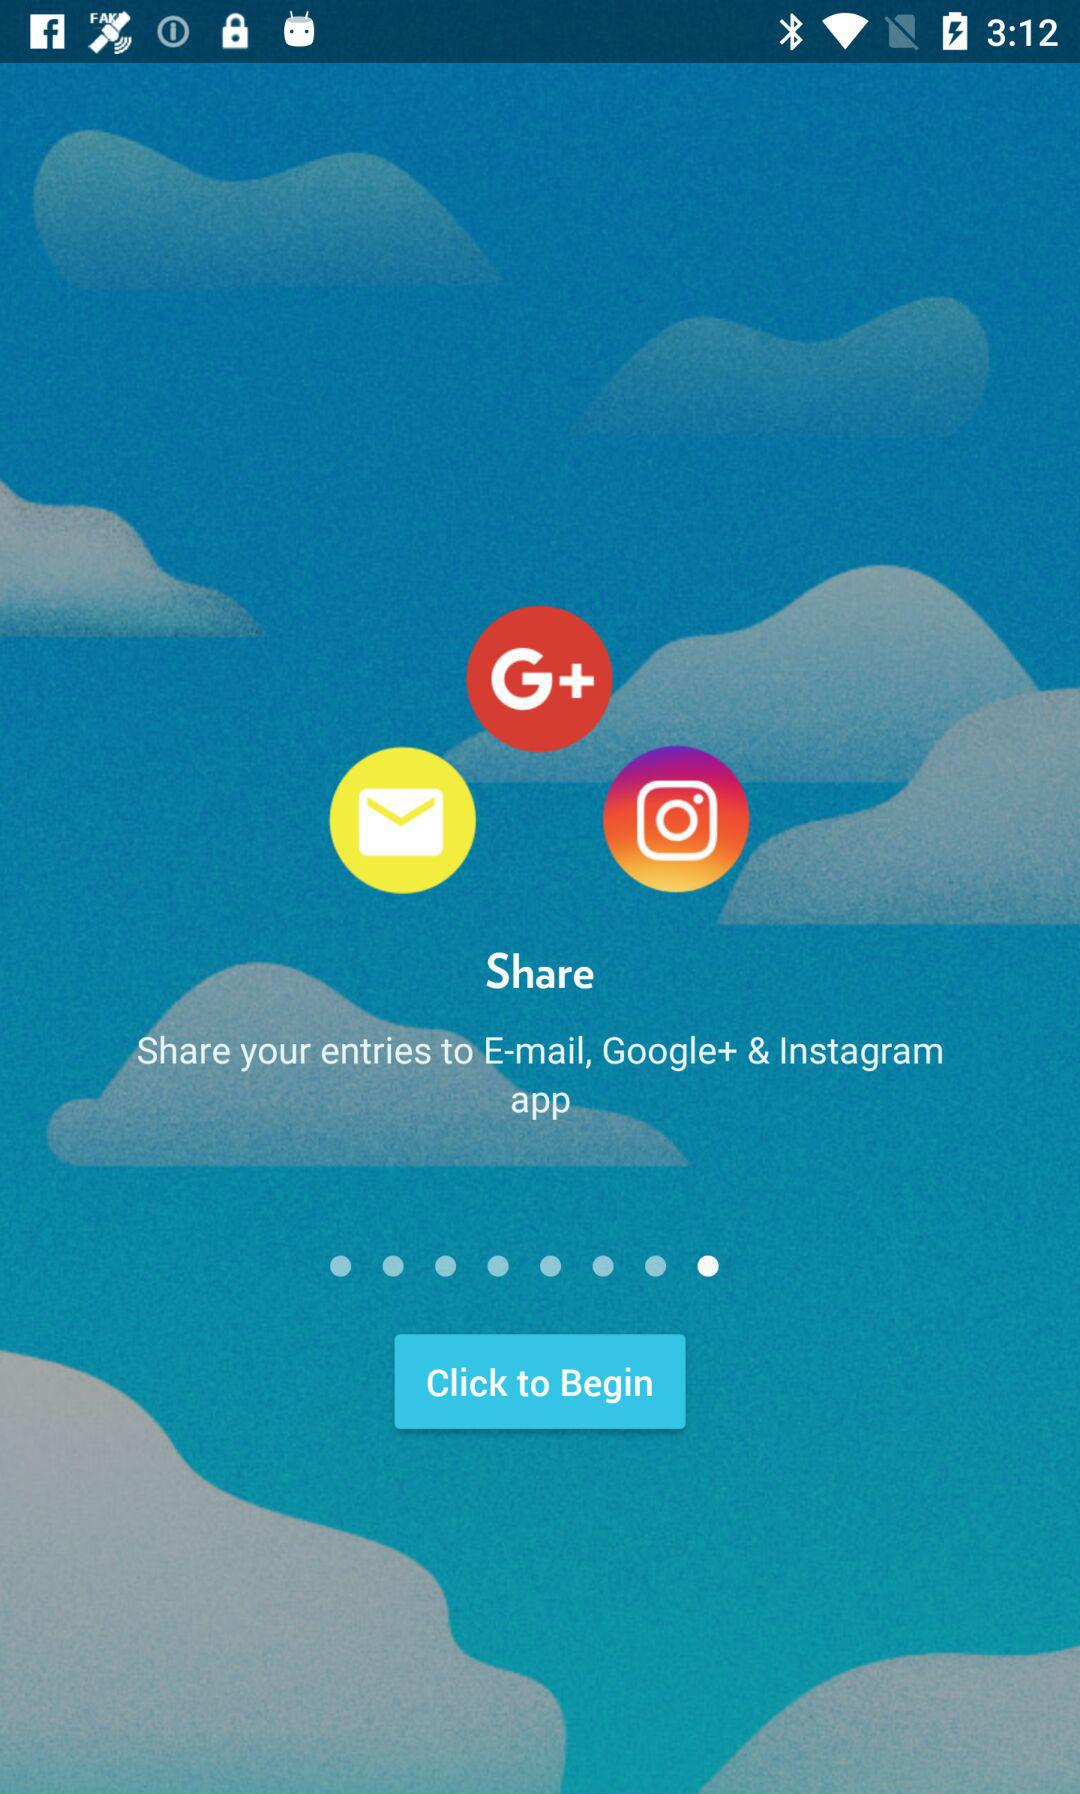BackgroundImage: (1, 64, 1080, 1794)
Image: (325, 604, 748, 894)
PageIndicator: (328, 1253, 721, 1280)
Text: (136, 1032, 944, 1123), (484, 951, 596, 993)
TextButton: (395, 1333, 687, 1430)
UpperTaskBar: (1, 1, 1080, 64)
